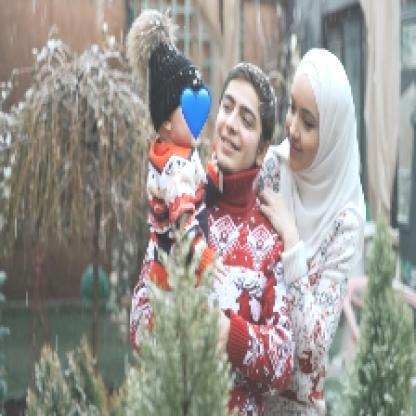child: (126, 8, 228, 298)
